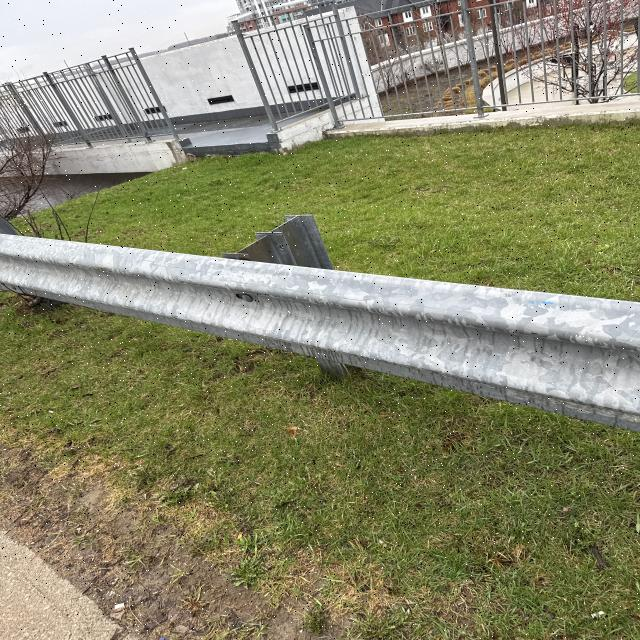Guard rail: (9, 235, 626, 423)
